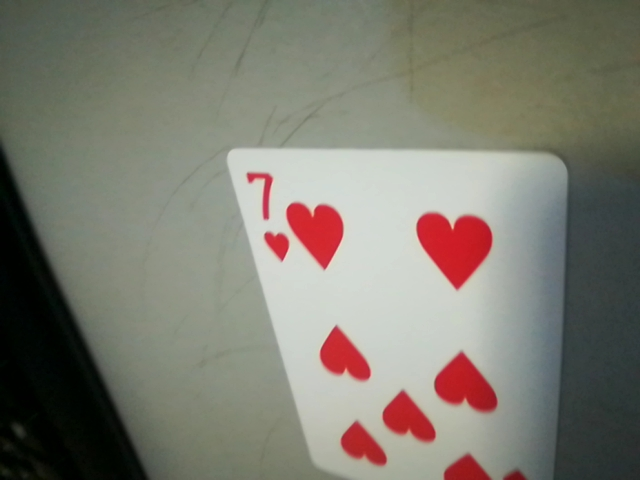hx 7: (236, 161, 291, 271)
